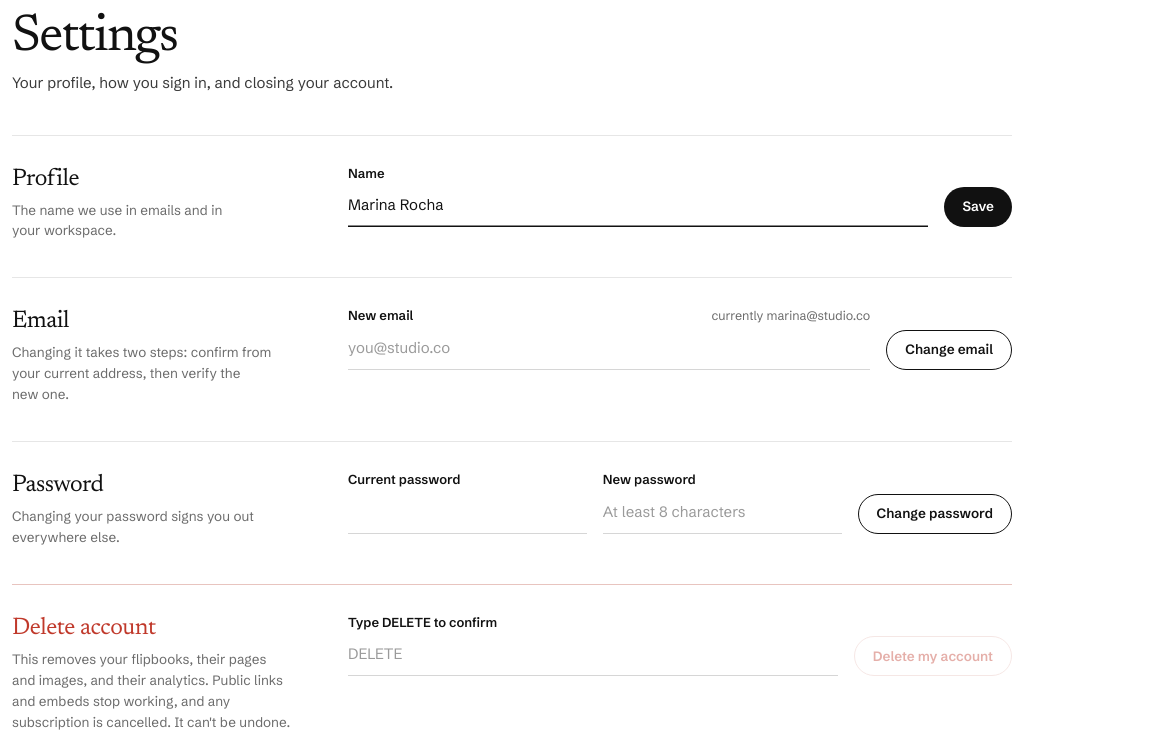
account settings › only deletes after DELETE is typed, and then asks for email confirmation
Expected: the button "Delete my account" is disabled, [854, 636, 1012, 676]
Step 1. Type "delete" into the field labelled "Type DELETE to confirm" → {"x": 593, "y": 654}, box [348, 632, 838, 676]
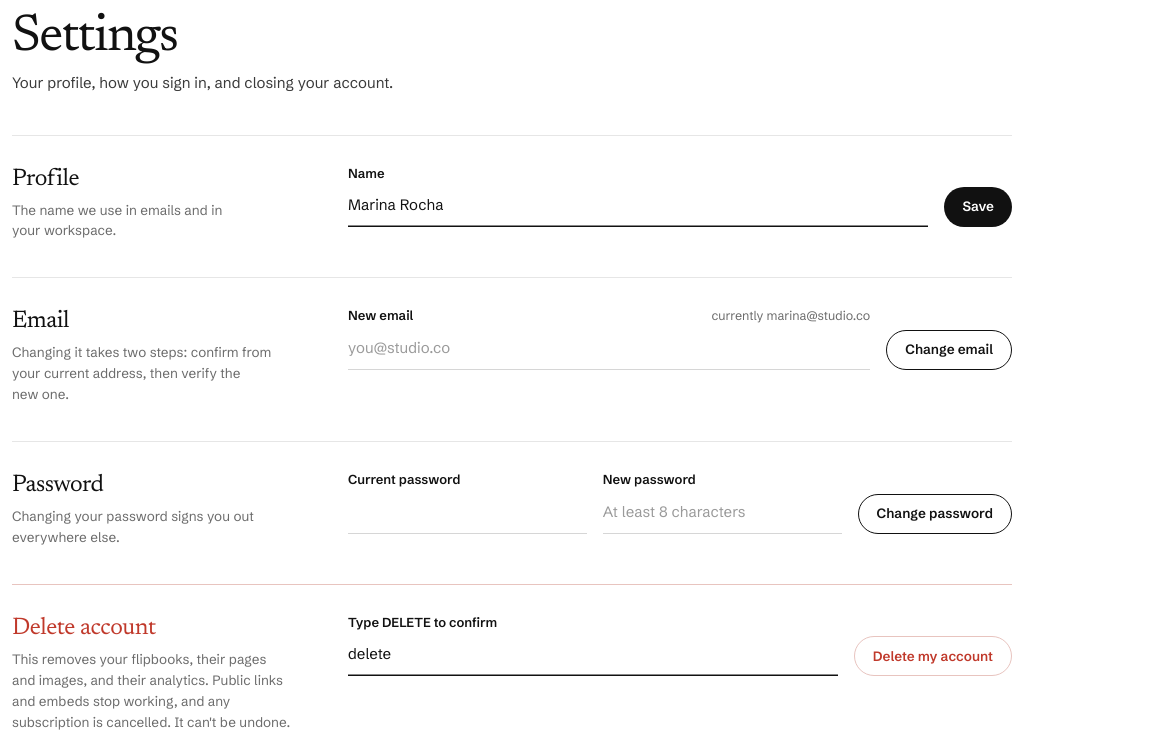
Expected: the button "Delete my account" is enabled
Step 2. Click the button "Delete my account" → {"x": 933, "y": 656}, box [854, 636, 1012, 676]
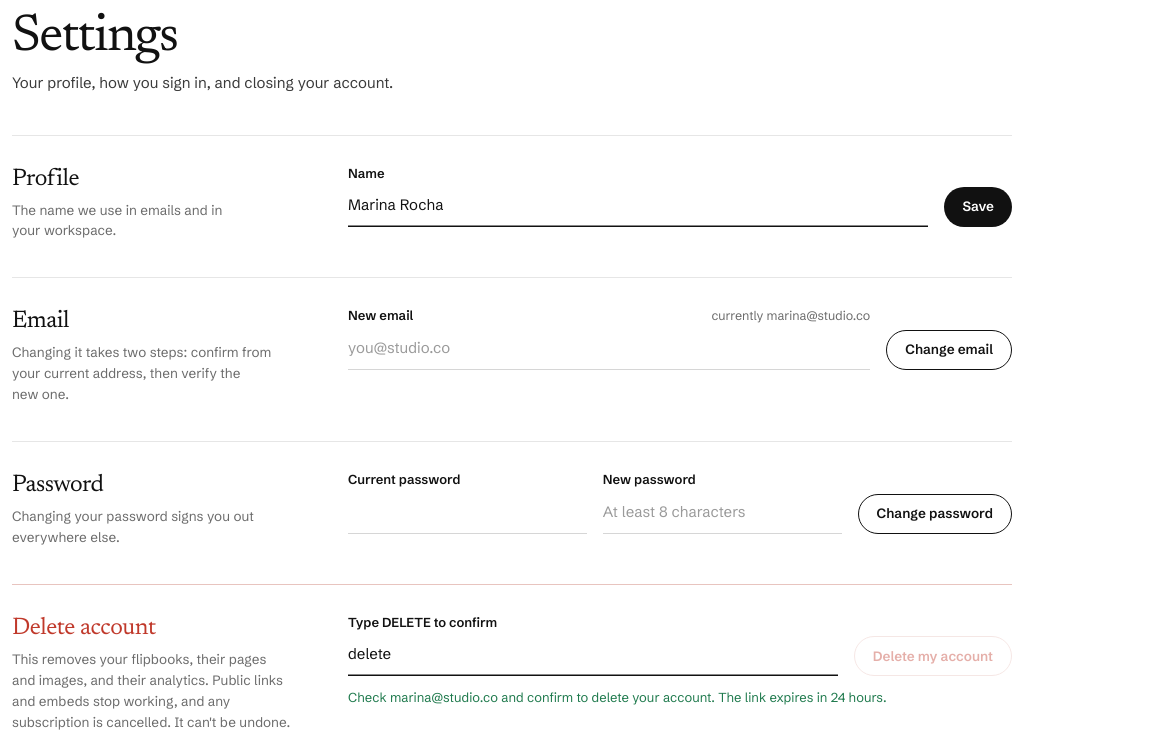
Expected: the message shows "Check marina@studio.co", [348, 690, 887, 706]
